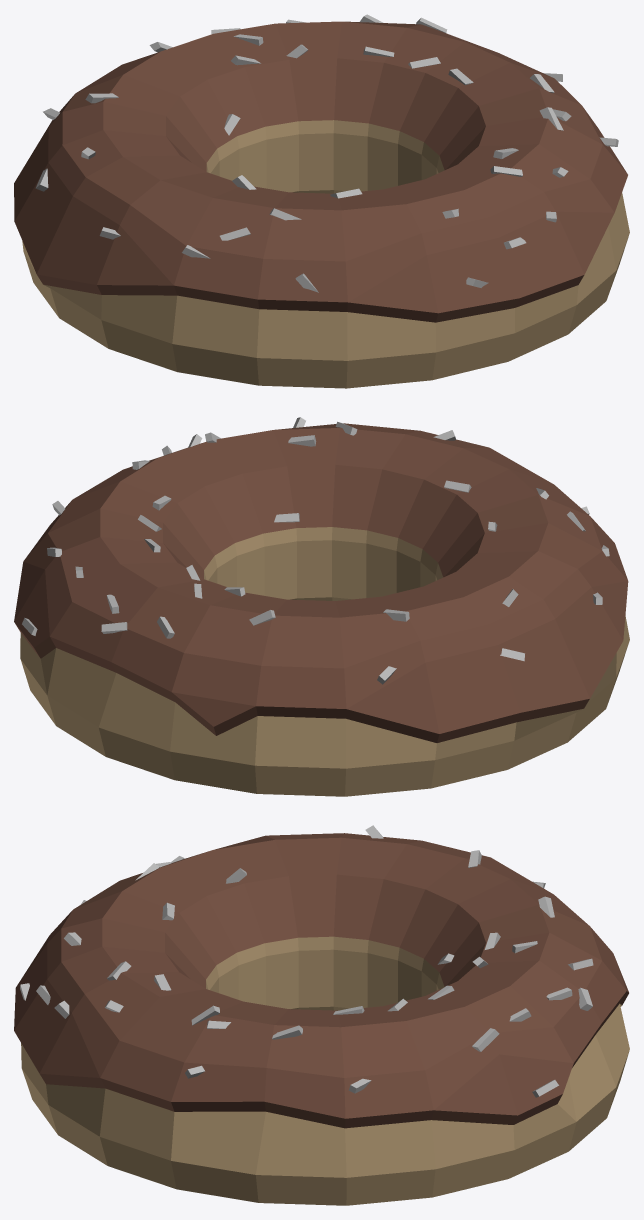
Rendered from Donut4.glb.
3 views of the same model, one above another, from view 1: azimuth 30°, elevation 25°; view 2: azimuth 150°, elevation 25°; view 3: azimuth 270°, elevation 25° (orthographic).
Visible parts, largest first — view 1: Donut4; view 2: Donut4; view 3: Donut4.
Part boxes in pixels (x1,y1,x2,y2): Donut4: (14, 14, 629, 388); Donut4: (14, 417, 629, 796); Donut4: (14, 825, 629, 1205).
Size of the model in its own units: 0.8811 by 0.2889 by 0.8675.
